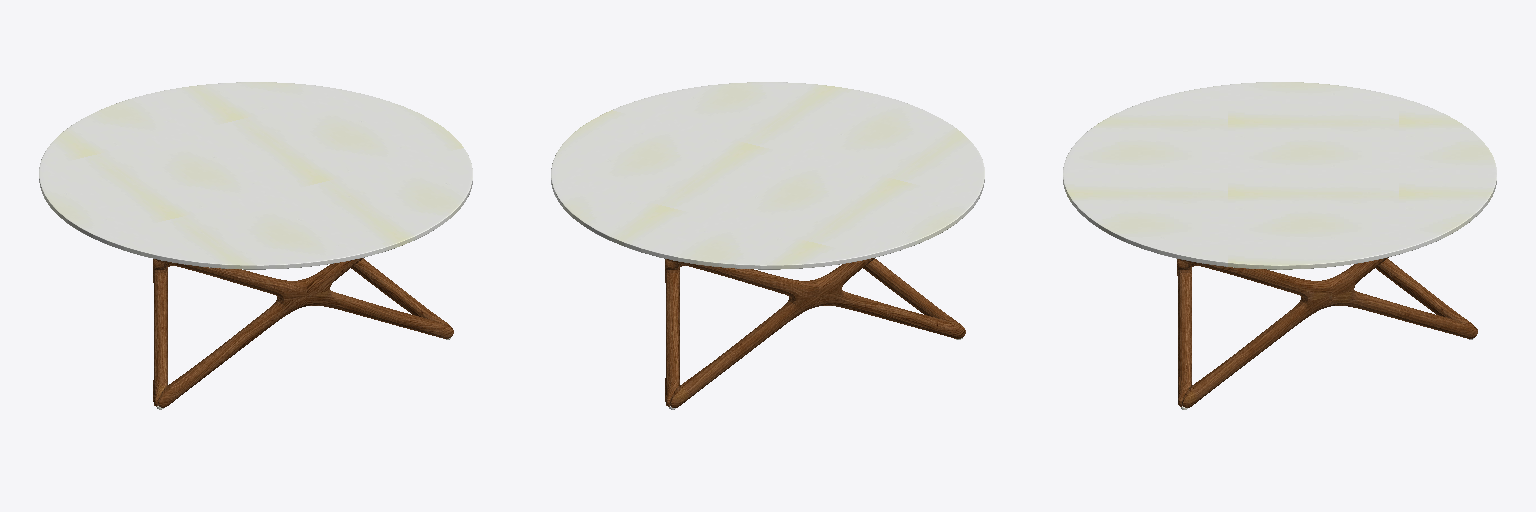
The picture shows the model from 3 angles: view 1: azimuth 30°, elevation 25°; view 2: azimuth 150°, elevation 25°; view 3: azimuth 270°, elevation 25°; orthographic projection.
Visible parts, largest first — view 1: glass, table_leg; view 2: glass, table_leg; view 3: glass, table_leg.
Part boxes in pixels (left/top/right/bottom): glass: left=39, top=82, right=472, bottom=409; table_leg: left=153, top=258, right=453, bottom=407; glass: left=551, top=82, right=984, bottom=409; table_leg: left=665, top=258, right=965, bottom=407; glass: left=1063, top=82, right=1496, bottom=409; table_leg: left=1177, top=257, right=1477, bottom=407.
Size of the model in its own units: 101 by 42.38 by 101.
Materials: 2 (2 with a texture image).